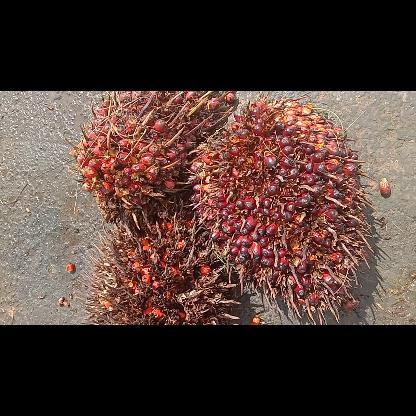TBS masak: (187, 90, 377, 324), (66, 91, 233, 229)
Terlalu masak: (76, 210, 240, 324)
